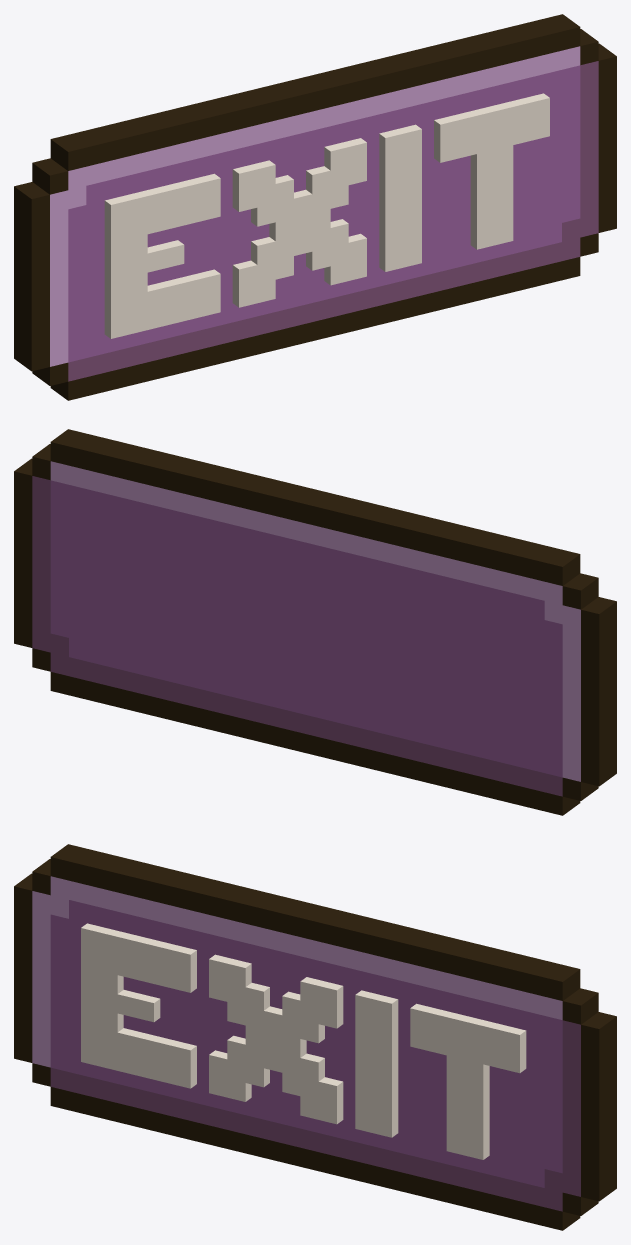
File: EXIT.fbx
3 views of the same model, one above another, from view 1: azimuth 30°, elevation 25°; view 2: azimuth 150°, elevation 25°; view 3: azimuth 330°, elevation 25° (orthographic).
Visible parts, largest first — view 1: Box008; view 2: Box008; view 3: Box008.
Part boxes in pixels (bbox=[...]): Box008: bbox=[14, 14, 616, 400]; Box008: bbox=[14, 429, 616, 815]; Box008: bbox=[14, 844, 616, 1230].
Bounding box in the file's own units: 96 × 39 × 6.77.
